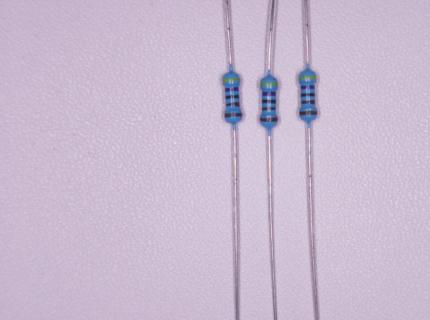Black band: (263, 99, 276, 104), (301, 93, 315, 97), (226, 95, 239, 99)
Brown band: (260, 117, 277, 122), (224, 113, 242, 117), (300, 111, 317, 115), (301, 100, 315, 104), (226, 102, 239, 106), (262, 107, 276, 110)
Violet band: (225, 87, 238, 92), (262, 92, 276, 96), (301, 85, 315, 89)
Yellow band: (299, 76, 316, 80), (261, 82, 277, 86), (223, 78, 239, 82)
